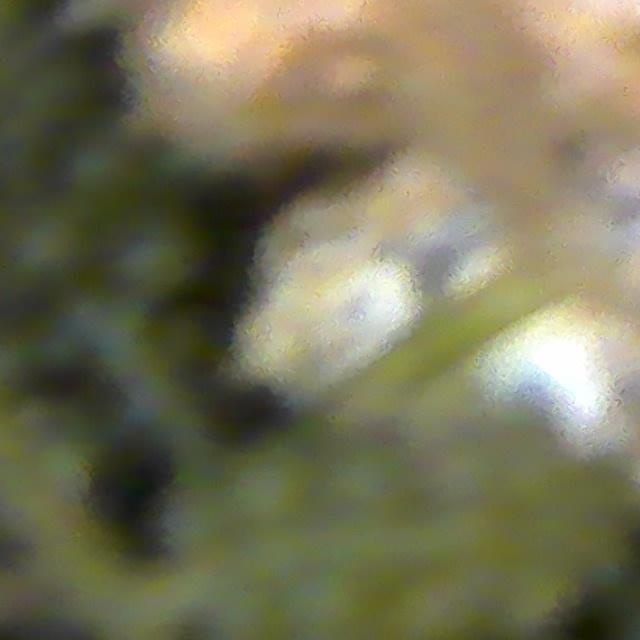SeaGrape: (115, 212, 206, 299), (6, 204, 90, 284), (326, 455, 415, 516), (433, 509, 505, 568), (236, 454, 294, 510), (454, 423, 508, 476), (250, 529, 305, 577), (345, 541, 403, 580)
